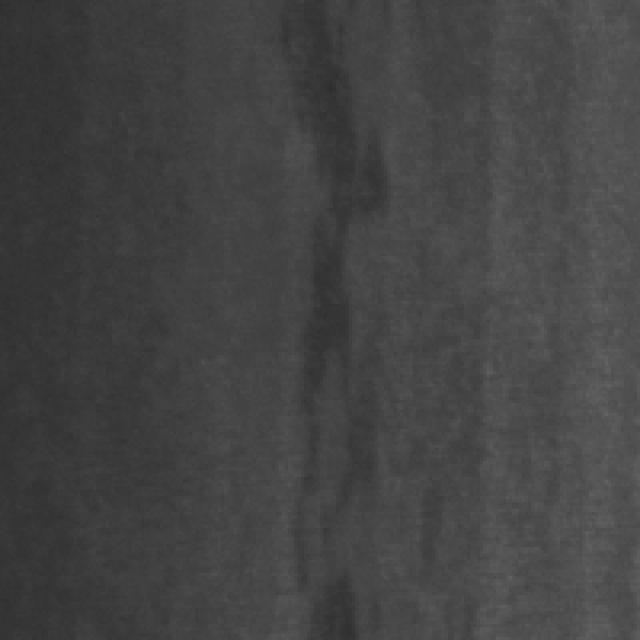inclusion: (256, 0, 403, 378), (287, 390, 386, 640)
